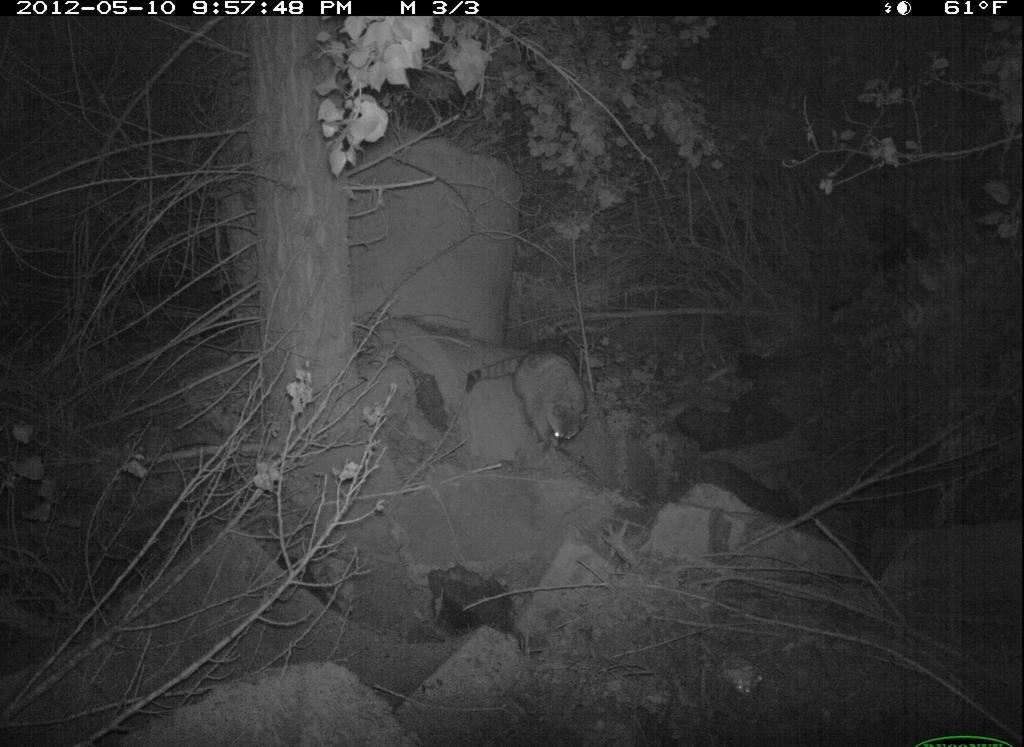raccoon: (464, 335, 607, 478)
